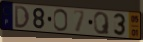3: (112, 12, 127, 37)
7: (73, 10, 86, 34)
8: (32, 7, 46, 30)
D: (14, 5, 31, 30)
O: (53, 9, 69, 33)
Q: (93, 11, 110, 36)
